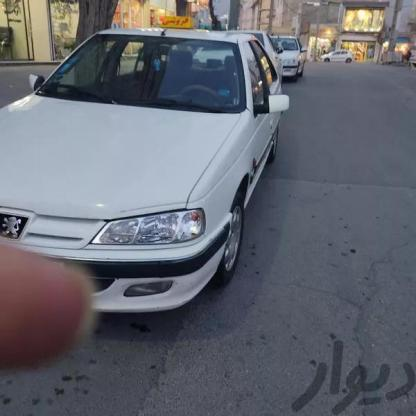Car: (0, 21, 264, 322), (251, 30, 313, 88), (316, 44, 366, 64)
